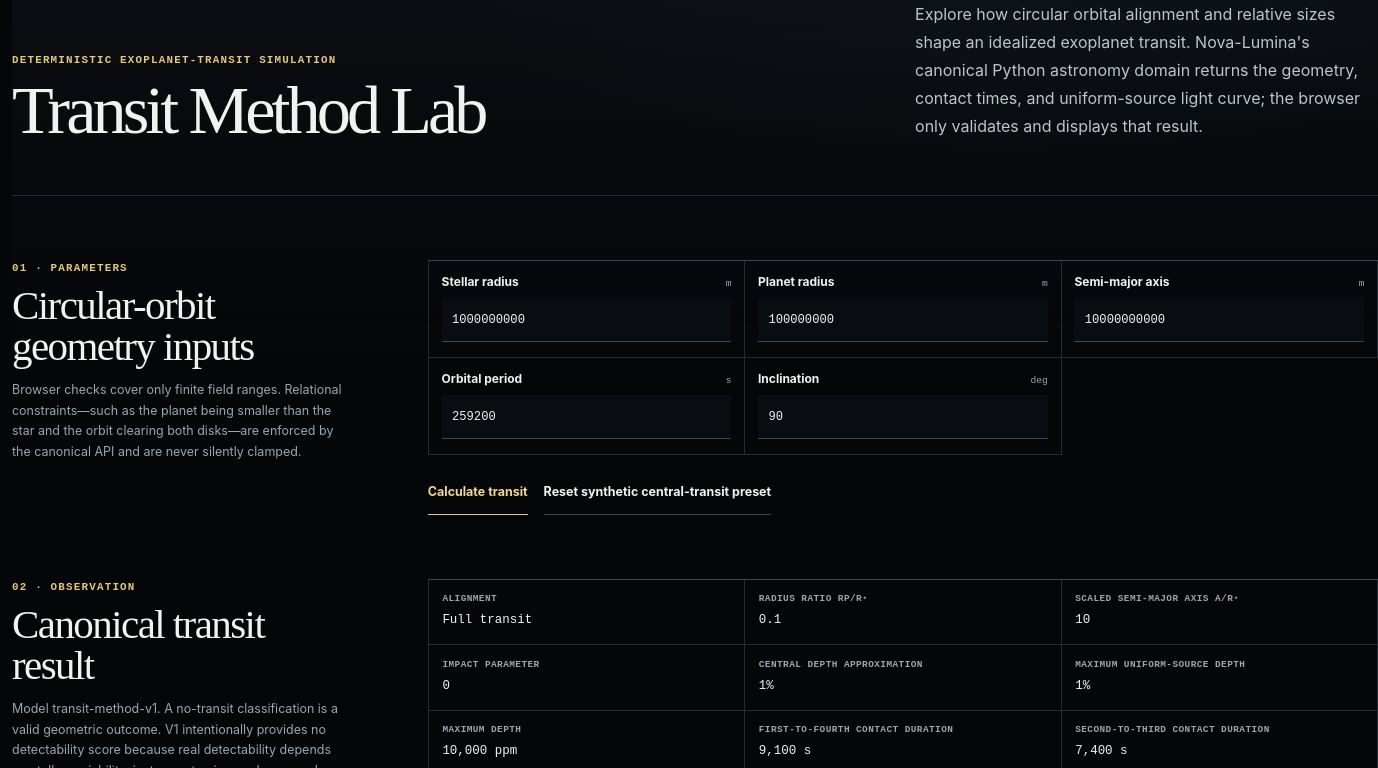
Test case: TransitMethodView › retains the last canonical result when the API rejects relationally invalid state
Replace the text in the number field labelled "Planet radius m" with "1000000000000" at coordinates (903, 320), box [758,298,1048,342]
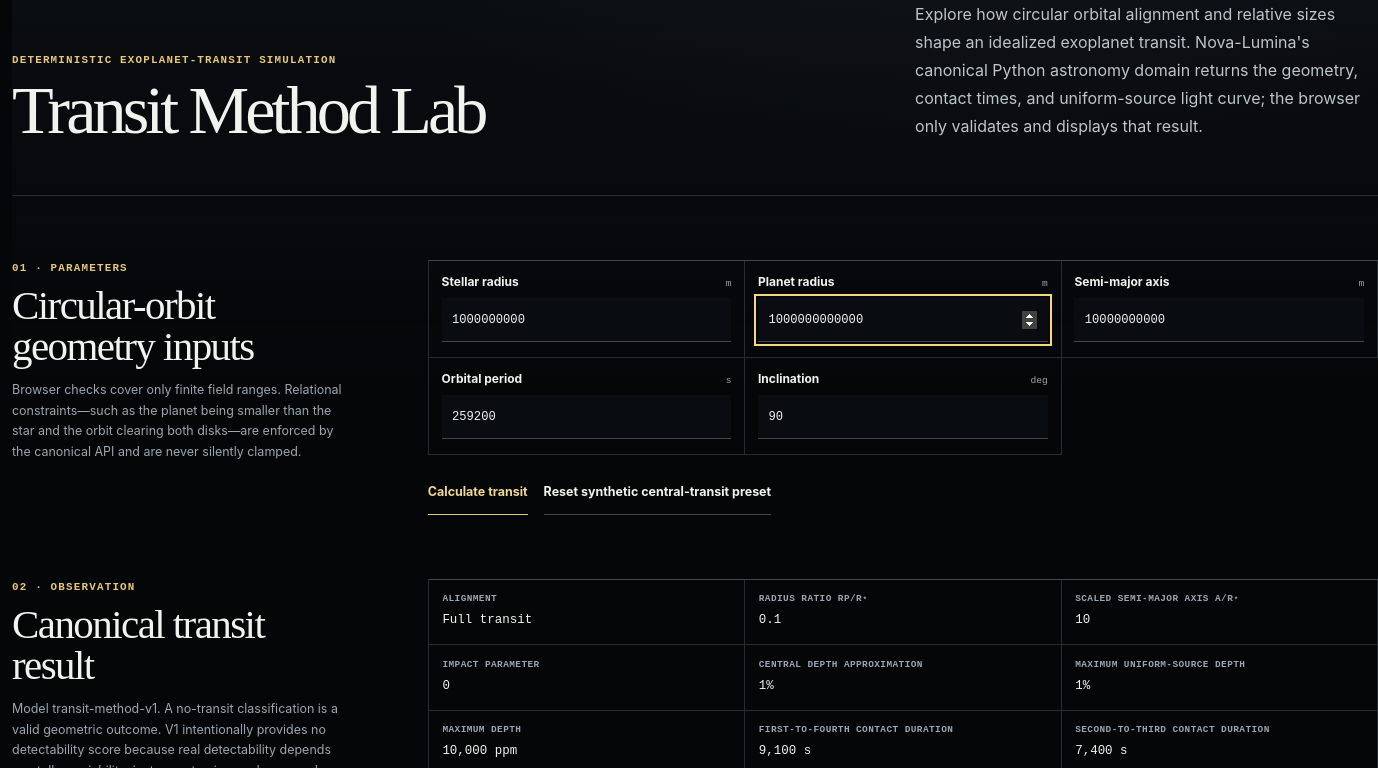
Click the button "Calculate transit" at coordinates (478, 493), box [428,471,528,515]
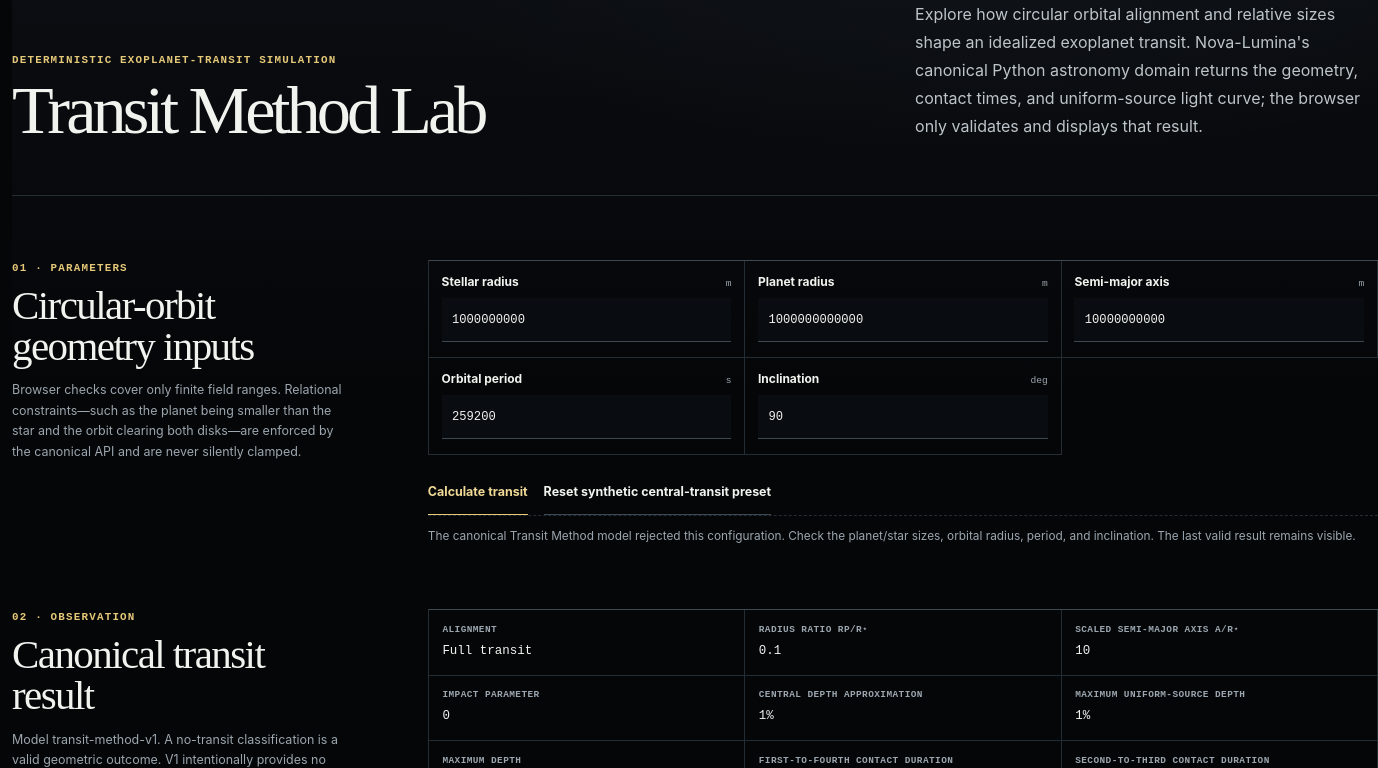
Expected: the text "Full transit" is shown, [442,644,532,658]
Now the text "canonical Transit Method model rejected this configuration" is shown, box [428,529,1356,543]
